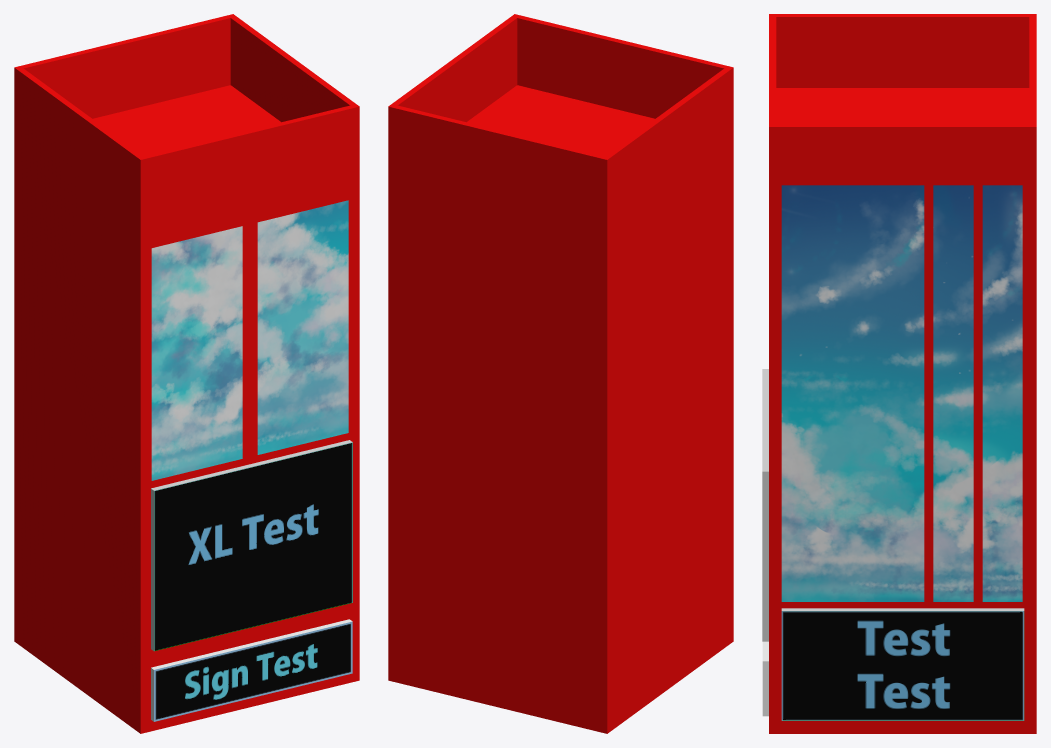
File: Town_Bld-Med_ADSTowerA.FBX
3 renders of one model, left to right at view 1: azimuth 30°, elevation 25°; view 2: azimuth 150°, elevation 25°; view 3: azimuth 270°, elevation 25°, orthographic. The views are drawn at different scales.
Visible parts, largest first — view 1: Town_Bld-Med_ADSTowerA; view 2: Town_Bld-Med_ADSTowerA; view 3: Town_Bld-Med_ADSTowerA.
Part boxes in pixels (x1,y1,x2,y2): Town_Bld-Med_ADSTowerA: (14, 14, 359, 733); Town_Bld-Med_ADSTowerA: (388, 14, 733, 733); Town_Bld-Med_ADSTowerA: (762, 14, 1036, 733).
Size of the model in its own units: 615 by 1502 by 615.
